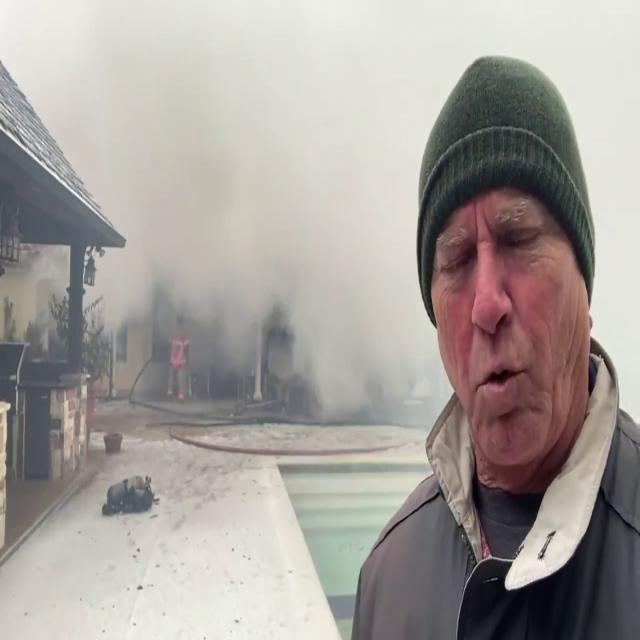Smoke: (102, 0, 451, 415)
